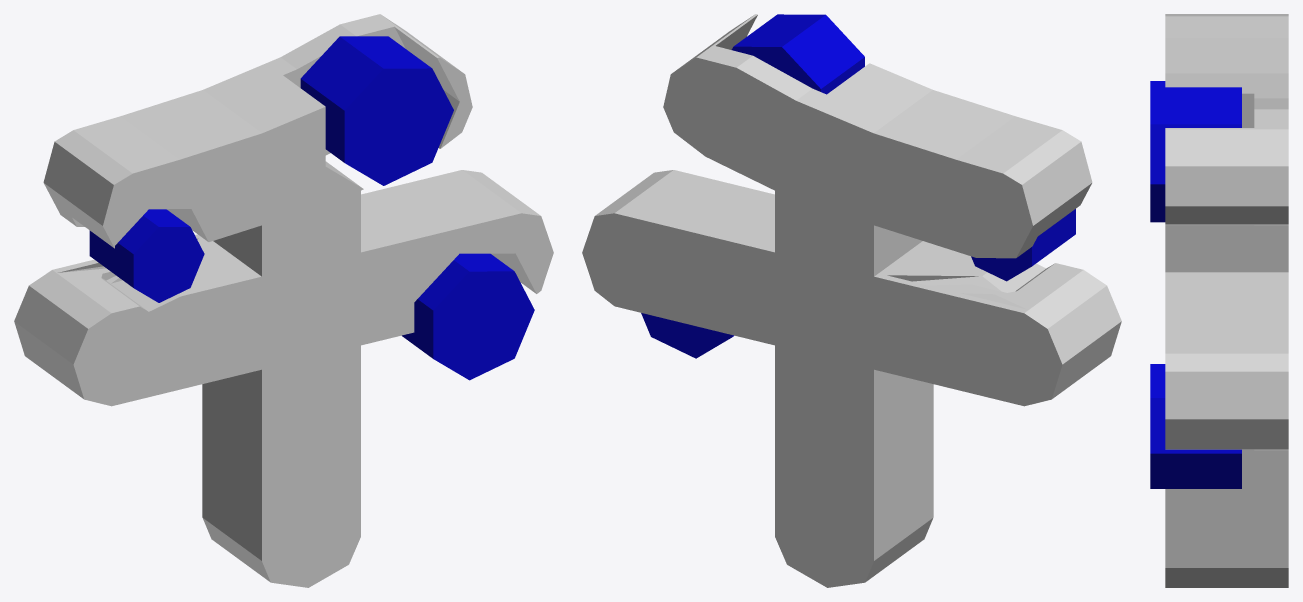
File: Ch_Lite_China_千_01.fbx
3 views of the same model, side by side, from view 1: azimuth 30°, elevation 25°; view 2: azimuth 150°, elevation 25°; view 3: azimuth 270°, elevation 25° (orthographic). The views are drawn at different scales.
Parts seen in each view (by area): view 1: sphere1; view 2: sphere1; view 3: sphere1.
Boxes of the visible parts, left/top/right/bottom form: sphere1: left=14, top=14, right=553, bottom=587; sphere1: left=582, top=14, right=1121, bottom=587; sphere1: left=1150, top=14, right=1288, bottom=587.
Bounding box in the file's own units: 0.9341 × 0.9438 × 0.2242.
